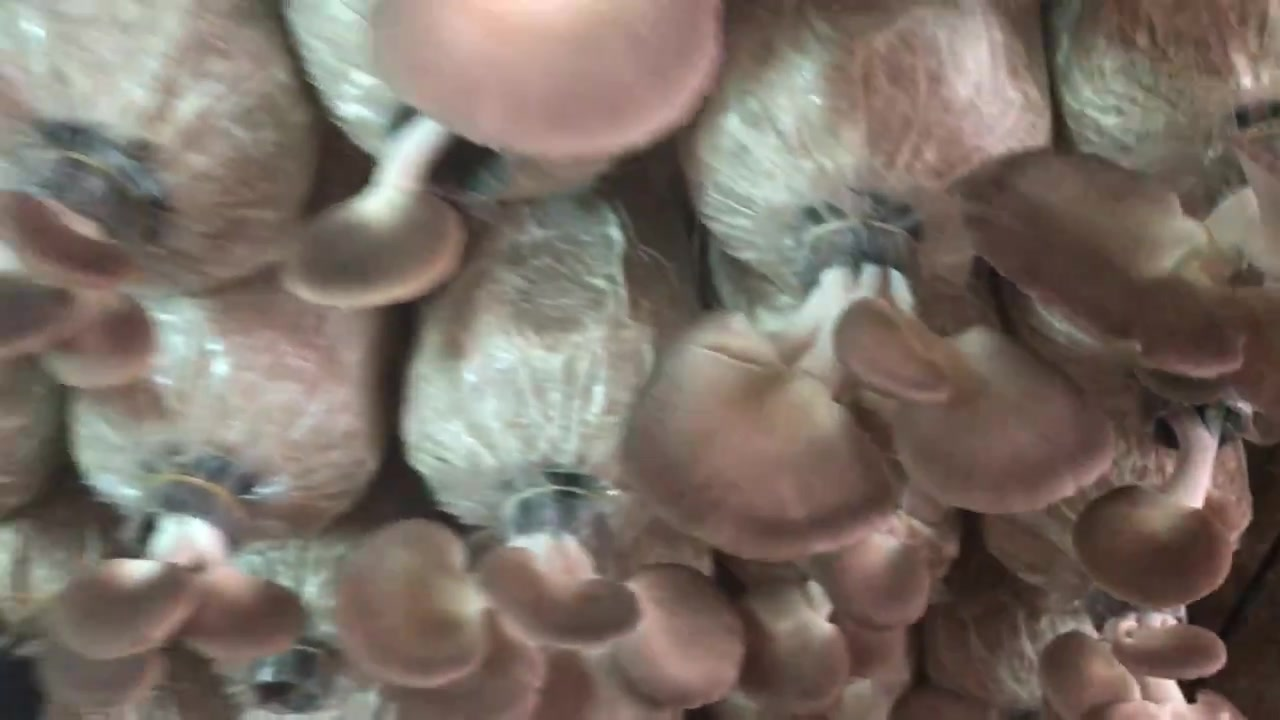nam: (623, 227, 1110, 560), (338, 492, 747, 720), (966, 147, 1280, 401), (41, 481, 306, 713), (374, 1, 720, 154), (281, 99, 516, 312), (1074, 385, 1256, 606), (1, 155, 168, 388), (1040, 593, 1240, 720), (806, 512, 942, 630), (743, 574, 850, 703)
